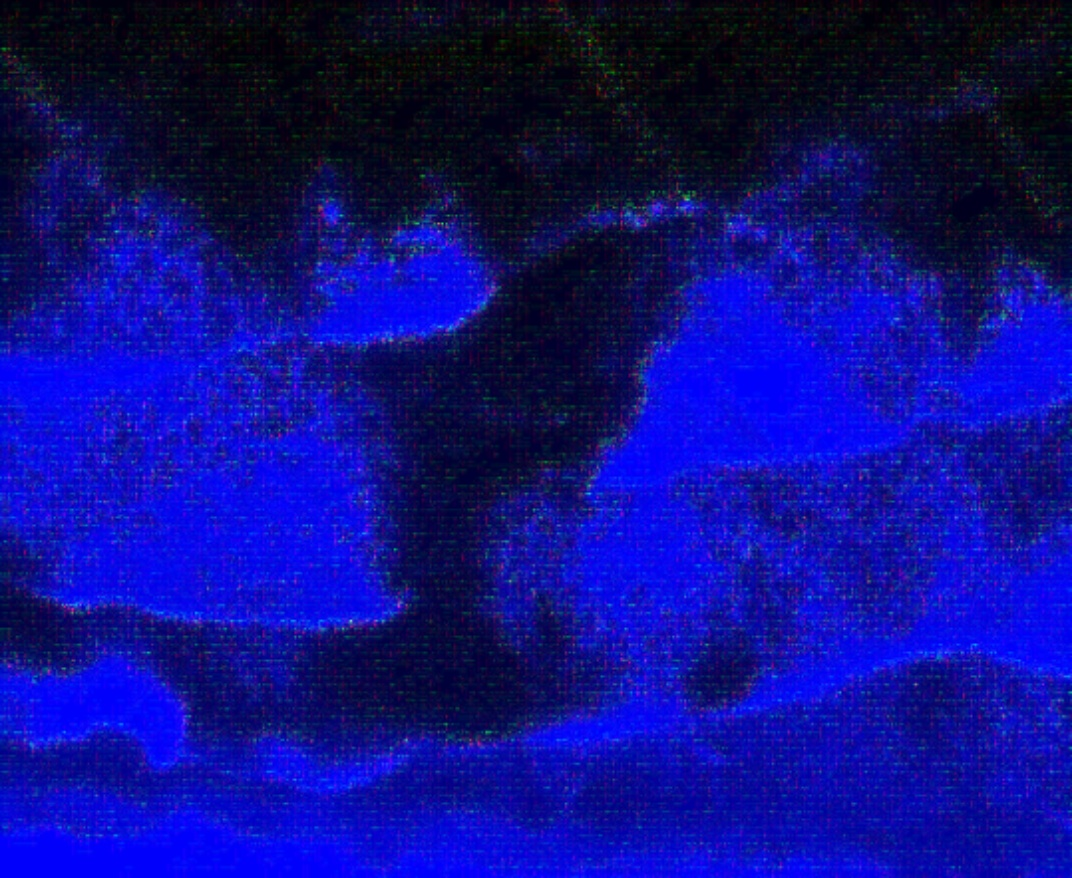rip_current: (266, 98, 689, 704)
